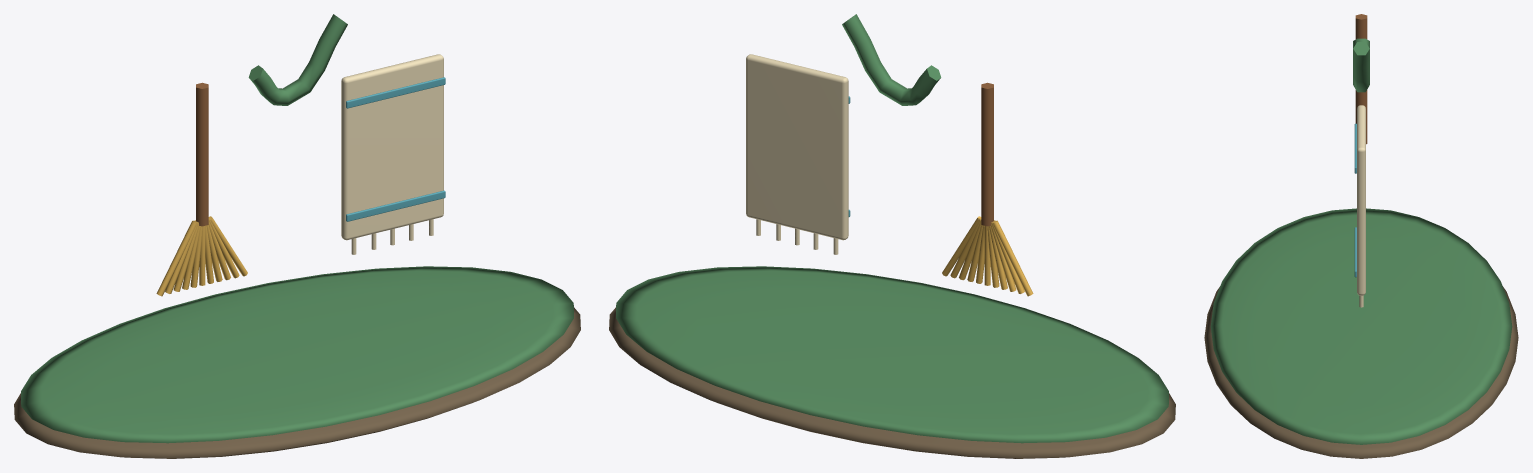
File: complete-second-dry-clean.glb
3 views of the same model, side by side, from view 1: azimuth 30°, elevation 25°; view 2: azimuth 150°, elevation 25°; view 3: azimuth 270°, elevation 25° (orthographic). The views are drawn at different scales.
Visible parts, largest first — view 1: complete-second-dry-clean_surface_01, complete-second-dry-clean_surface_04, complete-second-dry-clean_surface_00, complete-second-dry-clean_surface_03, complete-second-dry-clean_surface_02, complete-second-dry-clean_surface_05; view 2: complete-second-dry-clean_surface_01, complete-second-dry-clean_surface_04, complete-second-dry-clean_surface_00, complete-second-dry-clean_surface_03, complete-second-dry-clean_surface_02; view 3: complete-second-dry-clean_surface_01, complete-second-dry-clean_surface_00, complete-second-dry-clean_surface_04, complete-second-dry-clean_surface_02.
Boxes of the visible parts, x1,y1,x2,y2 form: complete-second-dry-clean_surface_01: (21, 14, 573, 443); complete-second-dry-clean_surface_04: (341, 54, 443, 254); complete-second-dry-clean_surface_00: (14, 307, 580, 458); complete-second-dry-clean_surface_03: (156, 216, 247, 296); complete-second-dry-clean_surface_02: (196, 82, 208, 226); complete-second-dry-clean_surface_05: (346, 77, 445, 221); complete-second-dry-clean_surface_01: (616, 14, 1168, 443); complete-second-dry-clean_surface_04: (746, 54, 848, 254); complete-second-dry-clean_surface_00: (609, 307, 1175, 458); complete-second-dry-clean_surface_03: (942, 216, 1033, 296); complete-second-dry-clean_surface_02: (981, 82, 993, 226); complete-second-dry-clean_surface_01: (1210, 38, 1512, 444); complete-second-dry-clean_surface_00: (1204, 287, 1518, 458); complete-second-dry-clean_surface_04: (1357, 105, 1365, 307); complete-second-dry-clean_surface_02: (1355, 14, 1367, 144).
Size of the model in its own units: 4.56 by 2.88 by 2.5.
